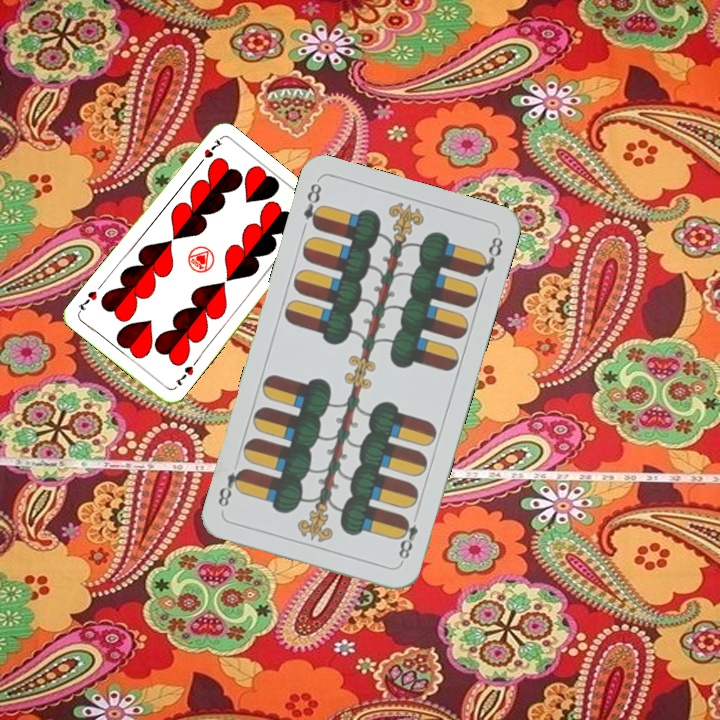E8: (394, 513, 421, 566), (299, 179, 326, 232)
H7: (194, 134, 225, 169), (171, 362, 196, 388)
